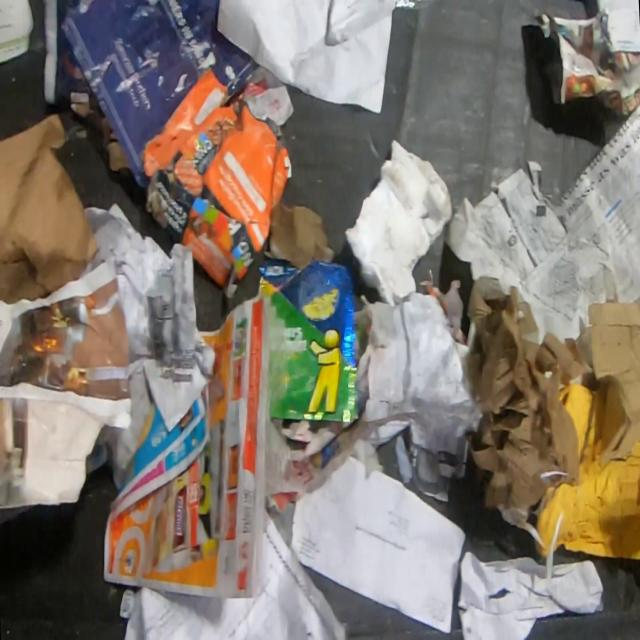cardboard: (138, 65, 294, 301), (0, 112, 100, 306), (533, 381, 640, 560), (343, 136, 454, 307), (588, 299, 640, 467), (68, 52, 133, 177), (262, 200, 336, 270), (594, 0, 640, 54)
soft_plastic: (255, 258, 360, 426), (395, 0, 433, 10)
